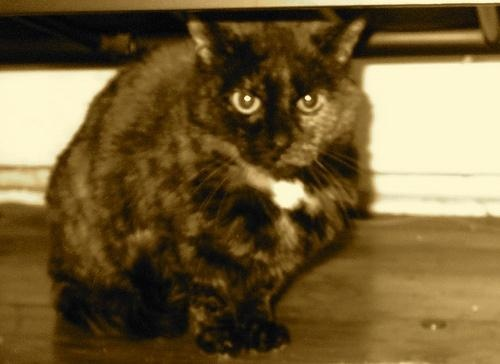cat: (46, 18, 373, 357)
